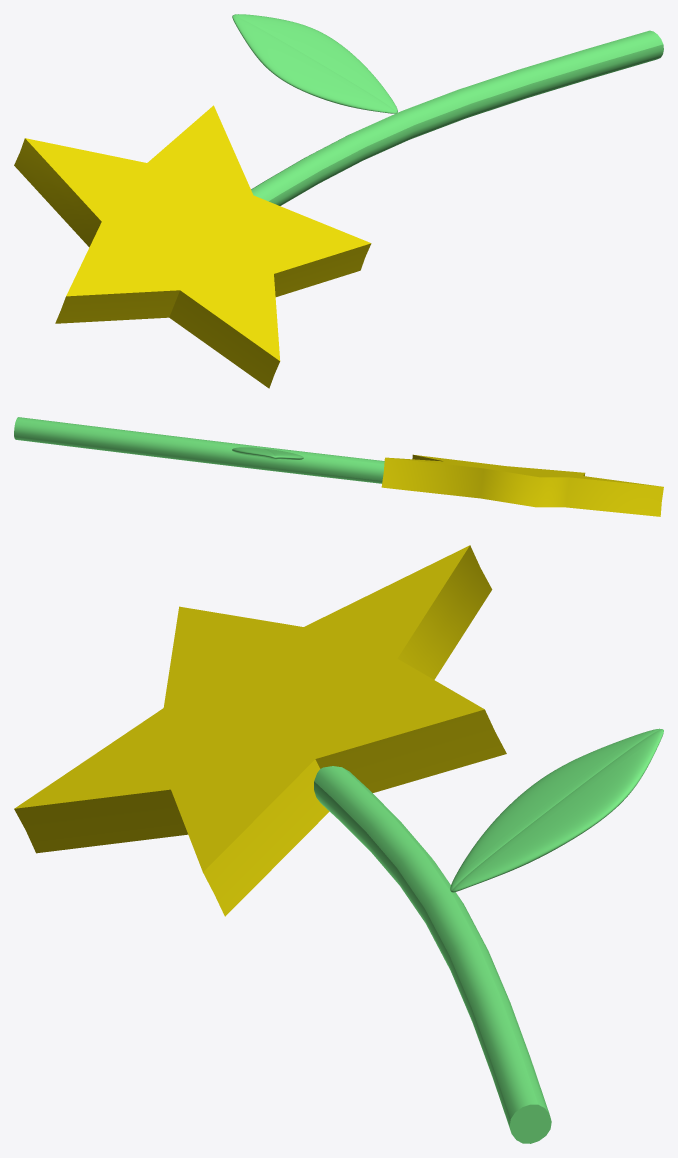
The model's file is Flor Estrela-Cadente.fbx.
3 views of the same model, one above another, from view 1: azimuth 30°, elevation 25°; view 2: azimuth 150°, elevation 25°; view 3: azimuth 270°, elevation 25° (orthographic). The views are drawn at different scales.
Visible parts, largest first — view 1: Flor Estrela Cadente - Low; view 2: Flor Estrela Cadente - Low; view 3: Flor Estrela Cadente - Low.
Boxes of the visible parts, bbox=[...] form: Flor Estrela Cadente - Low: bbox=[14, 14, 663, 388]; Flor Estrela Cadente - Low: bbox=[14, 417, 663, 516]; Flor Estrela Cadente - Low: bbox=[14, 545, 663, 1143].
Bounding box in the file's own units: 202 × 46.63 × 109.
